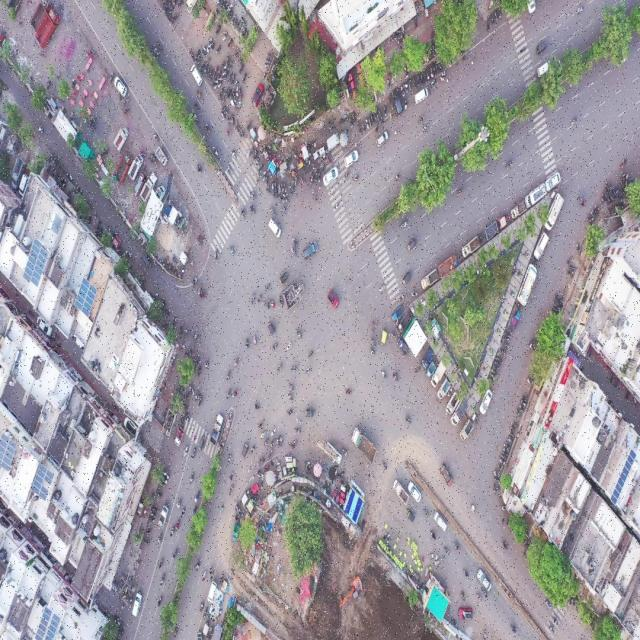3W: (534, 38, 548, 54), (266, 318, 276, 338), (240, 439, 250, 459), (198, 432, 207, 454), (278, 271, 290, 287), (380, 327, 389, 347), (405, 509, 416, 524), (304, 405, 314, 421), (407, 236, 416, 253), (401, 271, 411, 286)
Cars: (438, 459, 453, 493), (534, 231, 550, 262), (302, 239, 320, 264), (250, 81, 265, 110), (475, 566, 493, 590), (479, 389, 493, 416), (408, 476, 421, 504), (132, 589, 144, 619), (113, 77, 130, 98), (266, 218, 282, 240), (323, 167, 339, 189), (545, 171, 561, 193), (434, 508, 449, 531), (188, 64, 203, 87), (344, 149, 360, 168), (376, 131, 391, 149), (536, 59, 551, 77), (392, 87, 401, 117), (414, 87, 428, 106)
LCV: (546, 195, 566, 236), (519, 264, 538, 305), (526, 183, 546, 208), (438, 254, 460, 276), (390, 480, 409, 505), (461, 236, 479, 261), (325, 442, 342, 468), (420, 266, 439, 289), (209, 413, 222, 446), (450, 400, 467, 425), (459, 416, 473, 446), (432, 360, 446, 389), (114, 126, 129, 152), (142, 174, 156, 200), (445, 392, 460, 416), (130, 155, 143, 181), (133, 170, 146, 196), (157, 505, 169, 531), (396, 312, 410, 334), (327, 288, 340, 311), (326, 132, 341, 151), (155, 146, 169, 166), (420, 349, 433, 370), (438, 379, 450, 401), (510, 201, 526, 217), (391, 307, 403, 323), (397, 337, 407, 356), (511, 310, 521, 329), (175, 425, 184, 446), (426, 362, 436, 379)
M2W: (194, 556, 203, 575), (566, 115, 578, 129), (404, 411, 413, 429), (240, 199, 246, 226), (188, 471, 197, 488), (248, 203, 256, 222), (228, 243, 238, 258), (398, 219, 409, 232), (378, 281, 386, 298), (227, 469, 236, 484), (156, 531, 165, 546), (195, 160, 204, 175), (190, 448, 198, 464), (180, 503, 188, 519), (211, 143, 219, 159), (192, 489, 201, 503), (224, 367, 232, 382), (157, 556, 165, 571), (332, 201, 342, 213), (455, 189, 465, 201), (380, 461, 389, 474), (264, 281, 273, 294), (171, 545, 180, 558), (500, 539, 509, 552), (544, 599, 553, 612), (504, 159, 513, 172), (619, 157, 628, 170), (276, 359, 283, 375), (213, 247, 220, 263), (392, 368, 399, 384), (182, 444, 189, 460), (160, 571, 167, 587), (421, 506, 429, 520), (452, 541, 462, 552), (461, 568, 471, 579), (194, 88, 204, 99), (250, 289, 256, 307), (248, 191, 260, 200), (290, 236, 299, 248), (156, 40, 165, 52), (201, 568, 208, 583), (232, 147, 239, 162), (225, 164, 232, 179), (459, 589, 467, 602), (429, 529, 437, 542), (152, 131, 160, 144), (203, 355, 209, 372), (289, 247, 298, 258), (250, 442, 257, 456), (578, 194, 585, 208), (285, 341, 293, 353), (227, 451, 233, 467), (226, 385, 232, 401), (172, 624, 178, 640), (109, 70, 115, 86), (271, 342, 279, 354), (308, 348, 315, 361), (345, 385, 352, 398), (218, 503, 225, 516), (481, 589, 488, 602), (157, 594, 164, 607), (204, 122, 211, 135), (382, 367, 388, 382), (243, 337, 249, 352), (551, 616, 560, 626), (269, 298, 277, 309), (286, 405, 294, 416), (474, 591, 482, 602), (443, 547, 451, 558), (393, 171, 401, 182), (417, 114, 425, 125), (295, 327, 301, 341), (369, 348, 376, 360), (258, 293, 264, 307), (174, 497, 181, 509), (548, 624, 555, 636), (422, 121, 429, 133), (577, 3, 584, 15), (89, 114, 95, 128), (221, 30, 228, 42), (382, 104, 388, 118), (451, 614, 457, 628), (527, 376, 534, 388), (575, 242, 582, 254), (123, 104, 132, 113), (176, 516, 181, 532), (170, 523, 175, 539), (191, 112, 199, 122), (397, 293, 407, 301), (264, 299, 270, 312), (228, 484, 234, 497), (198, 394, 204, 407), (194, 388, 200, 401), (493, 10, 499, 23), (290, 363, 297, 374), (270, 426, 277, 437), (193, 100, 200, 111), (353, 173, 360, 184), (153, 47, 160, 58), (510, 624, 517, 635), (305, 365, 311, 377), (288, 380, 294, 392), (215, 44, 221, 56), (215, 24, 221, 36), (226, 73, 232, 85), (142, 538, 151, 546), (150, 505, 159, 513), (155, 490, 163, 499), (269, 207, 277, 216), (283, 192, 289, 204), (502, 342, 511, 350), (499, 347, 507, 356), (257, 420, 264, 430), (231, 390, 238, 400), (519, 44, 526, 54), (386, 77, 391, 91), (341, 447, 348, 457), (207, 37, 213, 48), (234, 47, 240, 58), (238, 64, 244, 75), (553, 293, 559, 304), (566, 255, 572, 266), (230, 113, 235, 126), (172, 315, 177, 328), (264, 175, 269, 188), (590, 208, 595, 221), (294, 426, 302, 434), (123, 96, 131, 104), (411, 290, 419, 298), (510, 422, 518, 430), (566, 270, 574, 278), (568, 264, 576, 272), (253, 401, 260, 410), (513, 408, 520, 417), (199, 602, 205, 612), (370, 338, 376, 348), (227, 39, 233, 49), (220, 60, 226, 70), (200, 62, 206, 72), (213, 65, 218, 77), (219, 87, 225, 97), (254, 157, 260, 167), (300, 175, 305, 187), (482, 630, 488, 640), (586, 213, 592, 223), (361, 121, 365, 135), (491, 14, 495, 28), (504, 442, 511, 450), (344, 171, 350, 180), (241, 73, 247, 82), (430, 79, 436, 88), (71, 77, 75, 90), (357, 123, 361, 136), (368, 116, 372, 129), (388, 95, 392, 108), (498, 6, 502, 19), (253, 334, 256, 351), (228, 61, 233, 71), (249, 146, 254, 156), (258, 163, 263, 173), (326, 155, 331, 165), (493, 477, 500, 484), (493, 470, 500, 477), (497, 465, 504, 472), (507, 437, 514, 444), (492, 364, 499, 371), (495, 356, 502, 363), (234, 357, 238, 369), (239, 86, 243, 98), (199, 364, 203, 376), (280, 206, 288, 212), (262, 170, 266, 182), (317, 171, 321, 183), (348, 116, 352, 128), (352, 113, 356, 125), (365, 118, 369, 130), (378, 108, 382, 120), (371, 113, 375, 125), (402, 86, 406, 98), (462, 51, 466, 63), (501, 451, 509, 457), (264, 438, 269, 447), (206, 67, 211, 76), (224, 87, 229, 96), (253, 150, 258, 159), (289, 187, 294, 196), (503, 333, 512, 338), (214, 79, 218, 90), (277, 183, 281, 194), (414, 368, 420, 375), (145, 530, 151, 537), (150, 512, 156, 519), (279, 196, 285, 203), (417, 74, 420, 88), (408, 78, 411, 92), (487, 18, 490, 32), (521, 400, 527, 407), (551, 306, 558, 312), (92, 119, 96, 129), (232, 73, 236, 83), (223, 63, 227, 73), (289, 180, 294, 188), (321, 162, 325, 172), (375, 122, 379, 132), (412, 78, 416, 88), (517, 303, 522, 311), (376, 106, 379, 119), (404, 98, 407, 111), (436, 63, 439, 76), (433, 65, 436, 78), (235, 80, 238, 92), (227, 55, 231, 64), (200, 49, 206, 55), (218, 78, 222, 87), (274, 181, 277, 193), (424, 73, 427, 85), (499, 459, 505, 465), (506, 329, 513, 334), (196, 47, 199, 58), (284, 182, 287, 193), (421, 71, 423, 87), (438, 63, 441, 73), (281, 183, 284, 192)
Truck: (350, 422, 378, 466), (36, 9, 59, 47), (114, 151, 132, 187)
